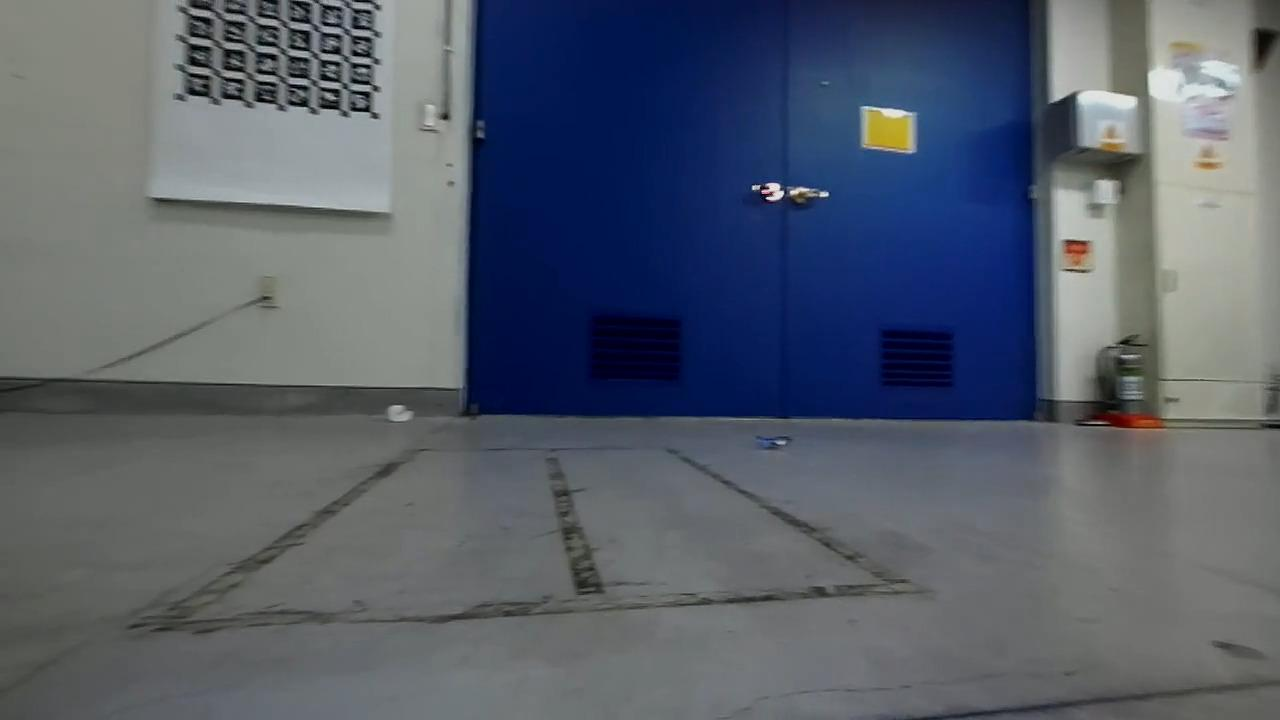crazyflie: (751, 430, 802, 455)
